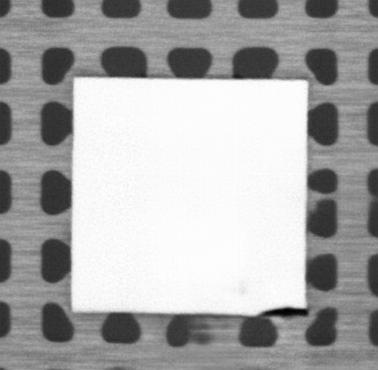DIE_BROKEN: (253, 305, 308, 317)
